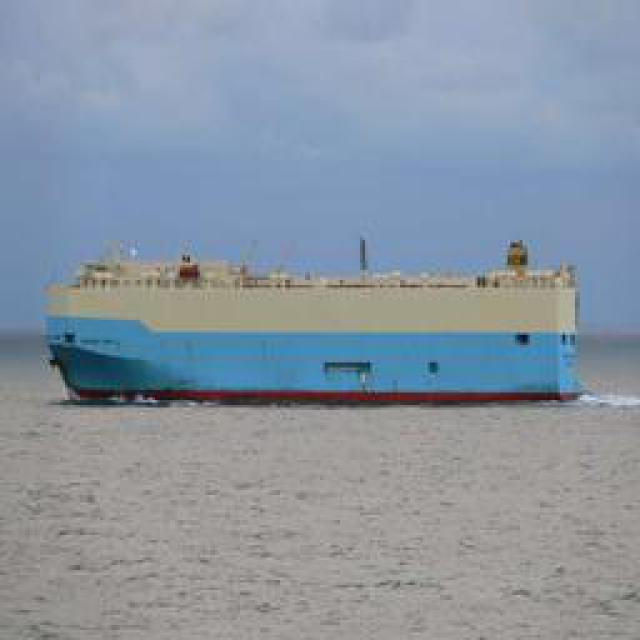Ship: (49, 237, 582, 407)
